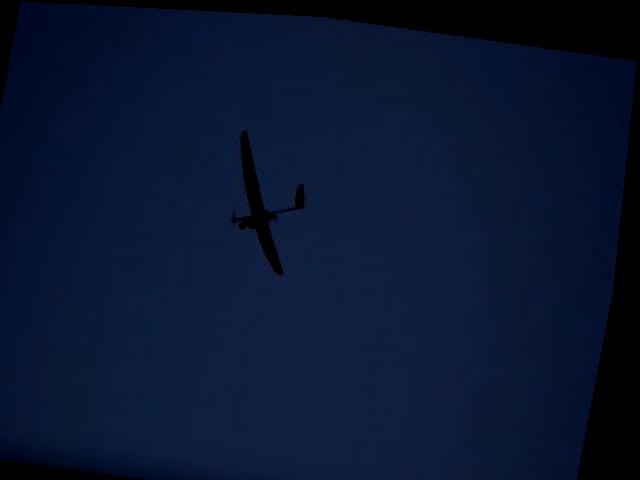uav: (221, 124, 323, 273)
